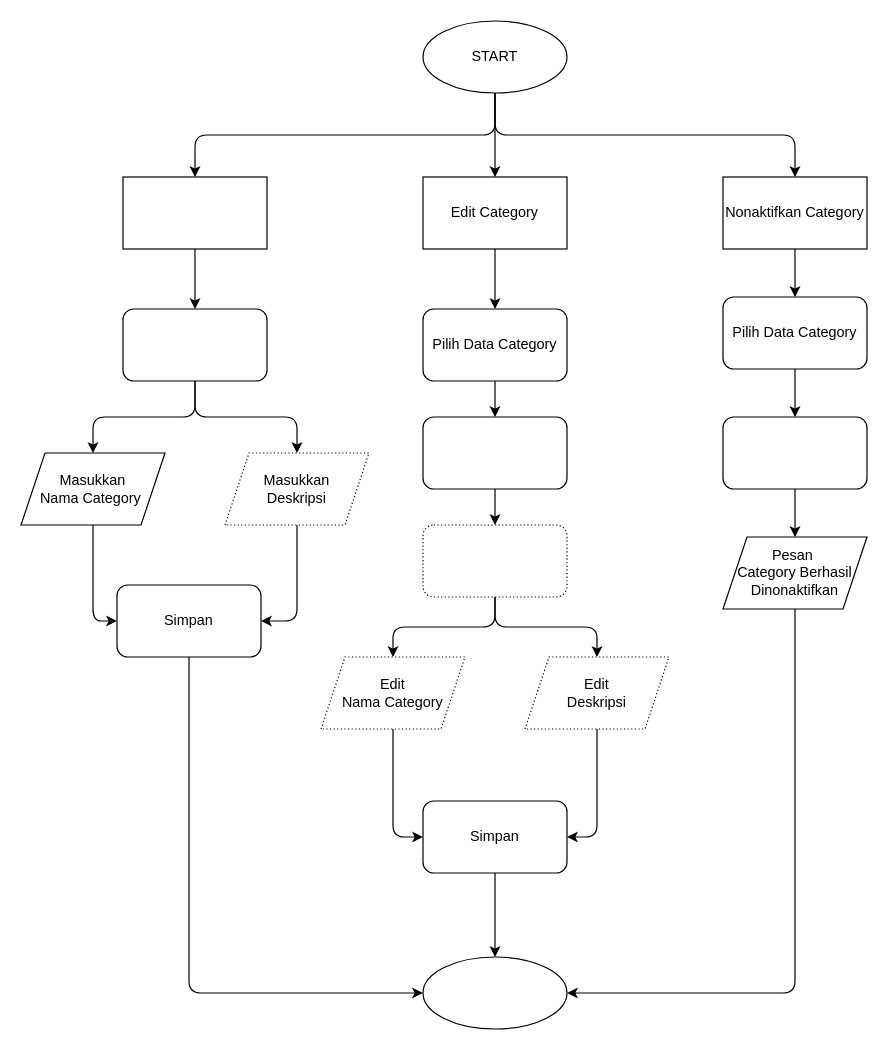
Image size: 888x1050. Some labels were removed from this diagram. Each missing label, with the centre of its shape:
"Edit Parent Unit" goes at (494,560).
"END" goes at (494,992).
"Klik Edit Data" goes at (494,452).
"Klik Nonaktifkan" goes at (794,452).
"Pilih Unit" goes at (194,344).
"Tambah Category" goes at (194,212).
